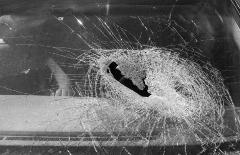glass: (58, 32, 240, 155)
